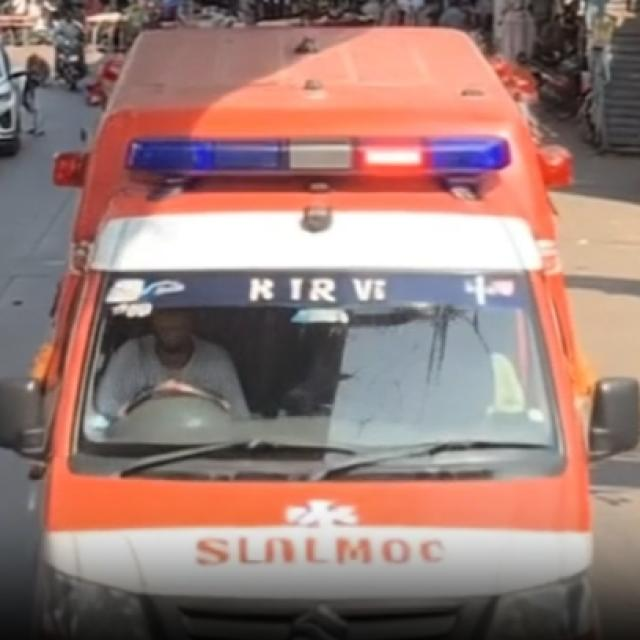ambulance: (0, 28, 639, 639)
